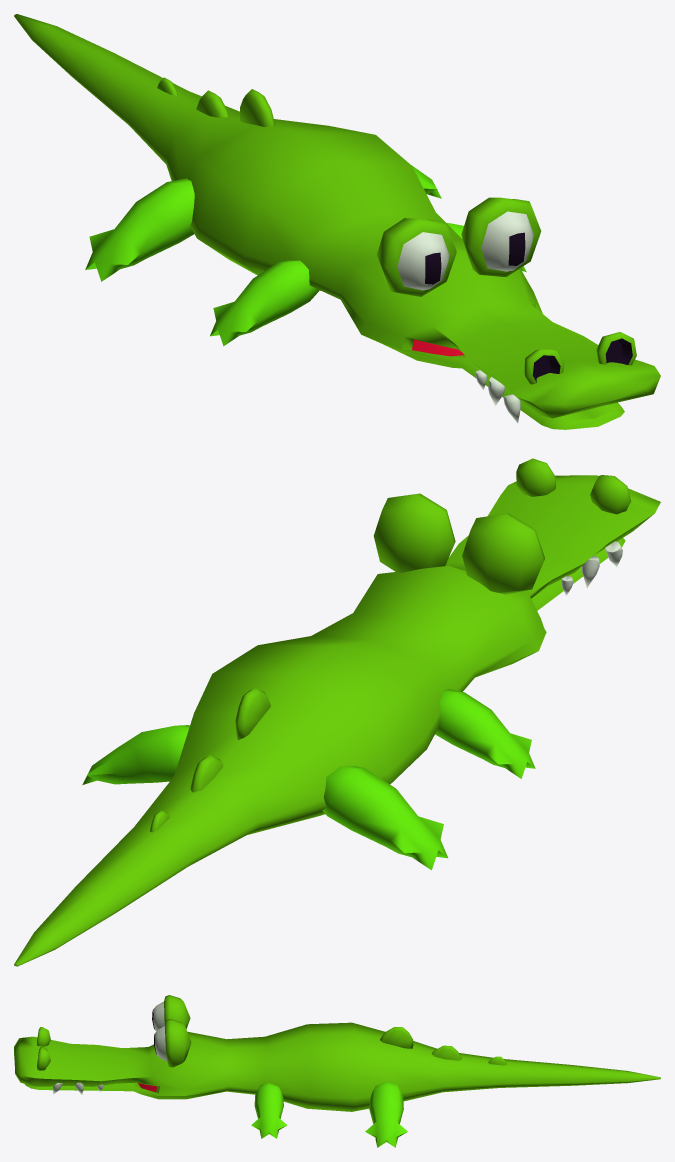
File: crocodile.fbx
3 views of the same model, one above another, from view 1: azimuth 30°, elevation 25°; view 2: azimuth 150°, elevation 25°; view 3: azimuth 270°, elevation 25° (orthographic). The views are drawn at different scales.
Parts seen in each view (by area): view 1: reptile.001; view 2: reptile.001; view 3: reptile.001.
Part boxes in pixels (bbox=[...]): reptile.001: bbox=[14, 14, 660, 429]; reptile.001: bbox=[14, 458, 660, 966]; reptile.001: bbox=[14, 995, 660, 1147].
Bounding box in the file's own units: 86.33 × 40.58 × 254.
